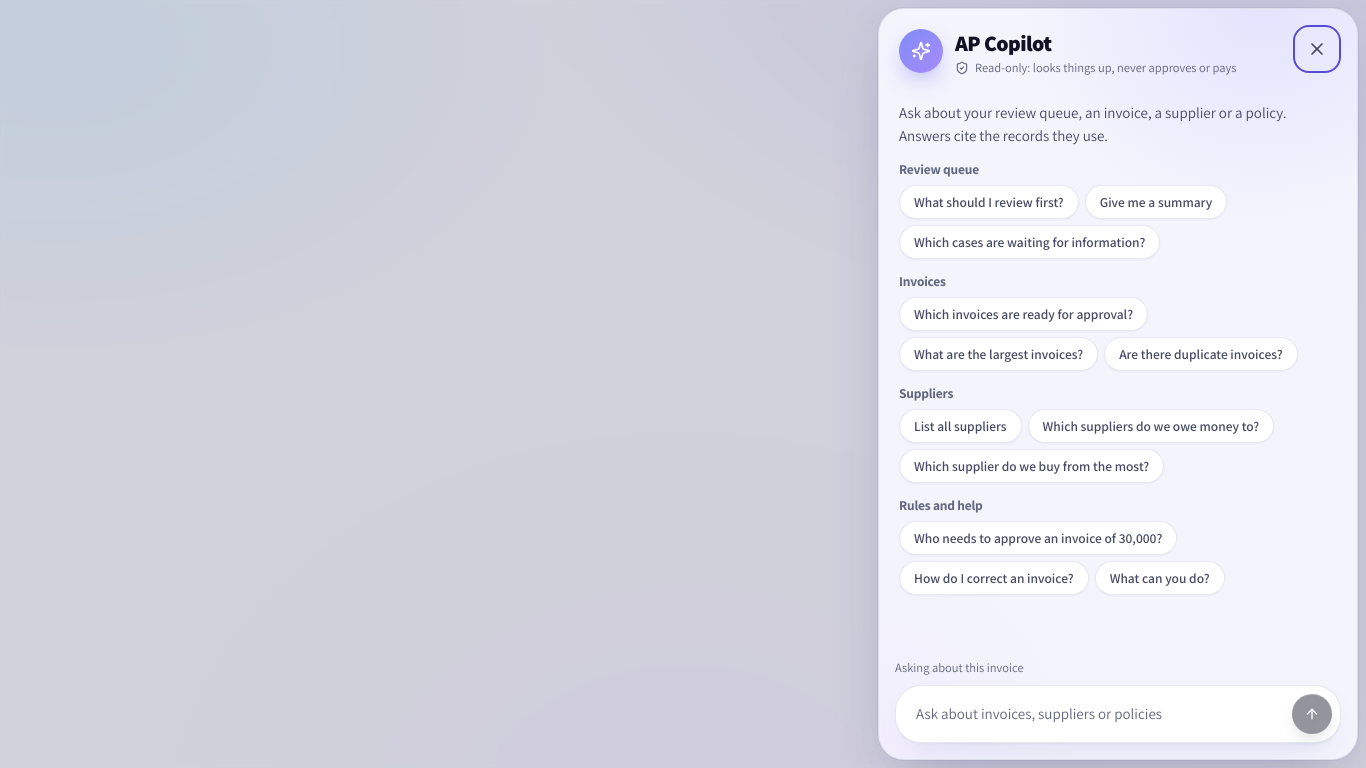
Test: AP Copilot panel › sends the question with the page context and shows the cited answer
The image size is (1366, 768).
In the text box labelled "Ask about invoices, suppliers or policies": point(1094, 714) x1=904 y1=694 x2=1284 y2=734, type "Why is this blocked?"
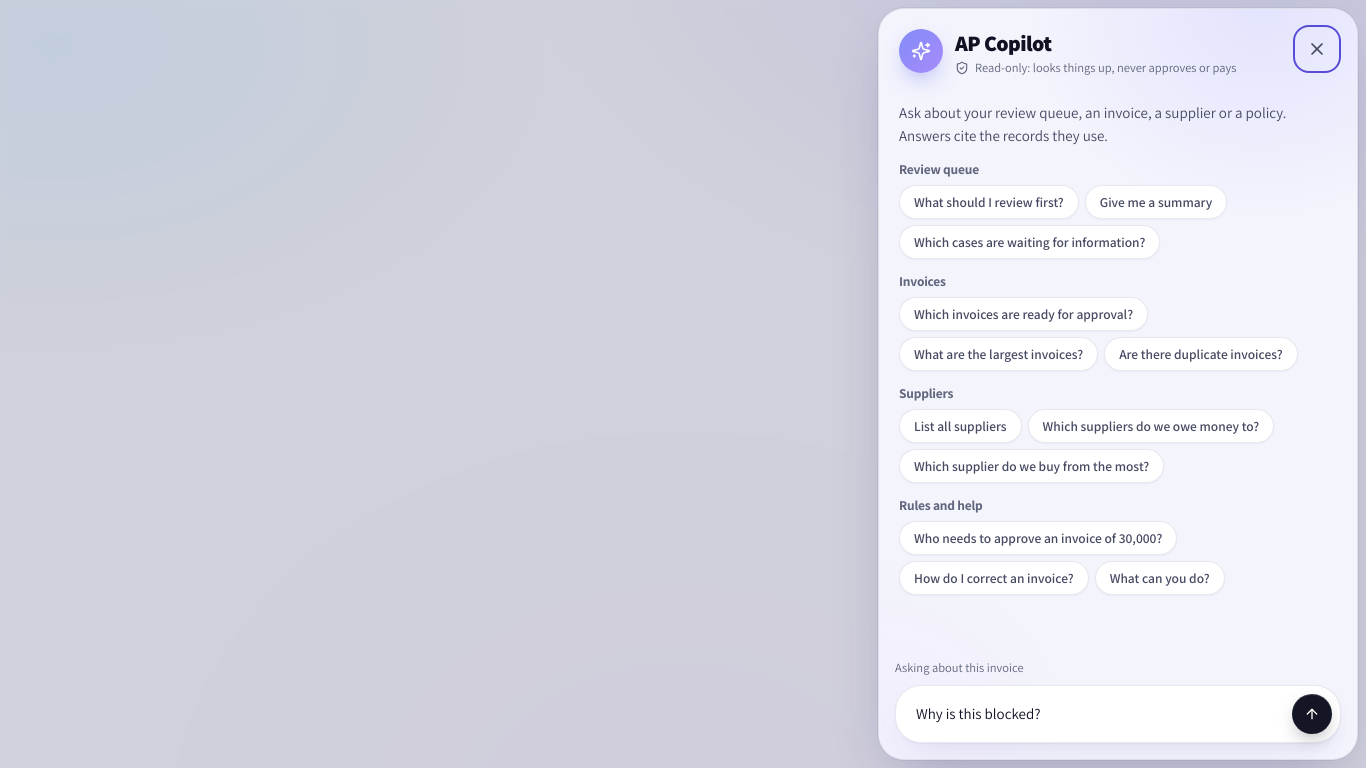
Press Enter in the text box named "Ask", box x1=904 y1=694 x2=1284 y2=734
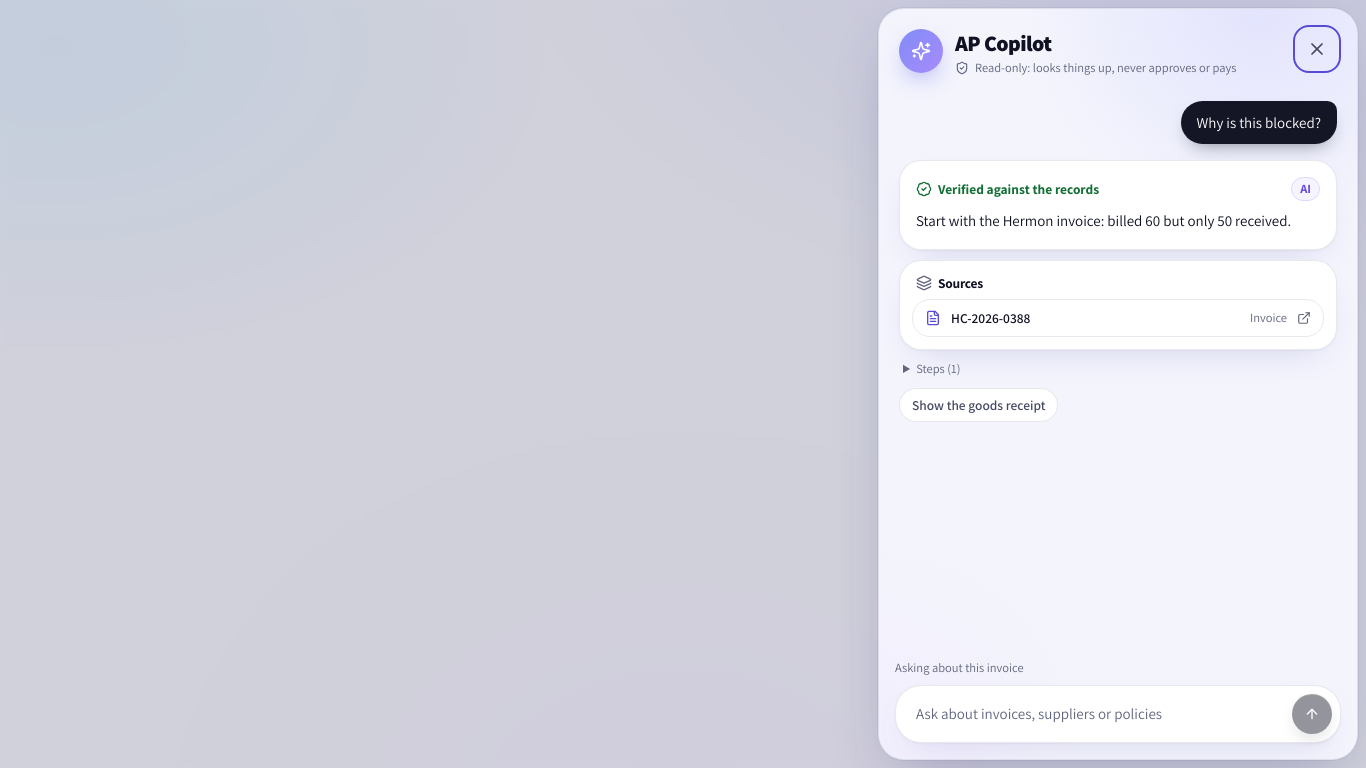
Expected: the text "billed 60 but only 50 received" is shown, x1=916 y1=211 x2=1291 y2=230
